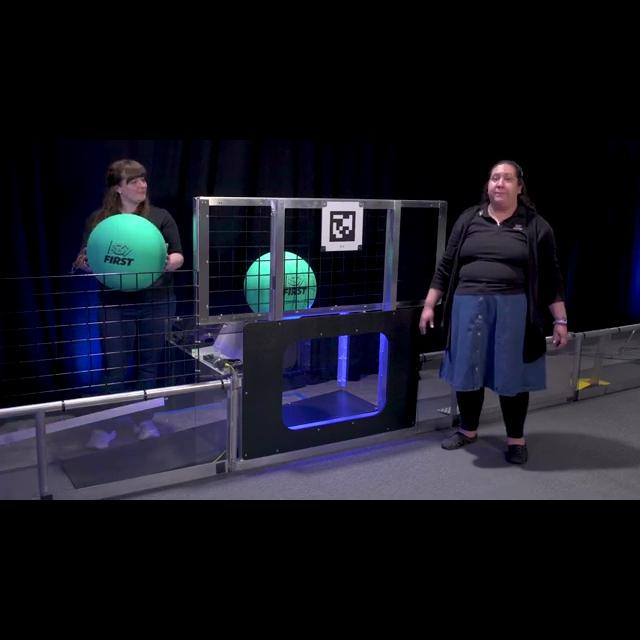ALGAE: (85, 212, 167, 292), (243, 250, 317, 314)
